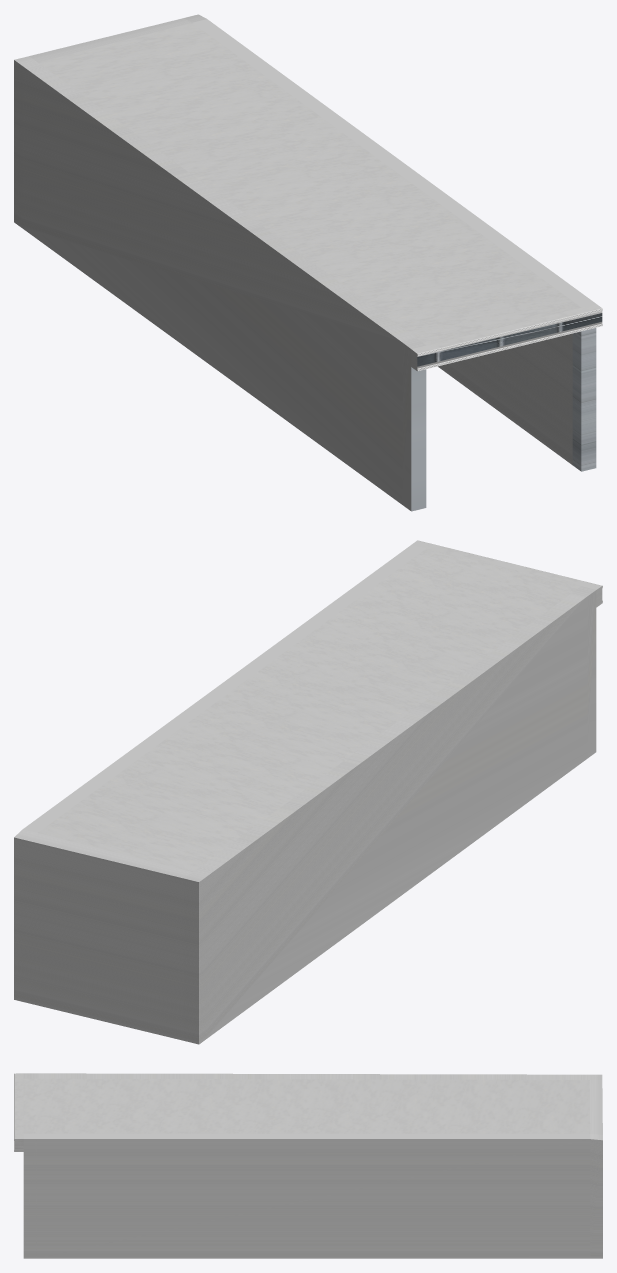
File: Floor2Wall.fbx
The picture shows the model from 3 angles, top to bottom: view 1: azimuth 30°, elevation 25°; view 2: azimuth 150°, elevation 25°; view 3: azimuth 270°, elevation 25°; orthographic projection. The views are drawn at different scales.
Parts seen in each view (by area): view 1: Floor2_Wall; view 2: Floor2_Wall; view 3: Floor2_Wall.
Part boxes in pixels (x1,y1,x2,y2): Floor2_Wall: [14, 14, 602, 511]; Floor2_Wall: [14, 540, 602, 1044]; Floor2_Wall: [14, 1073, 602, 1258].
Bounding box in the file's own units: 455 × 385 × 1720.
2 materials, 2 textured.
